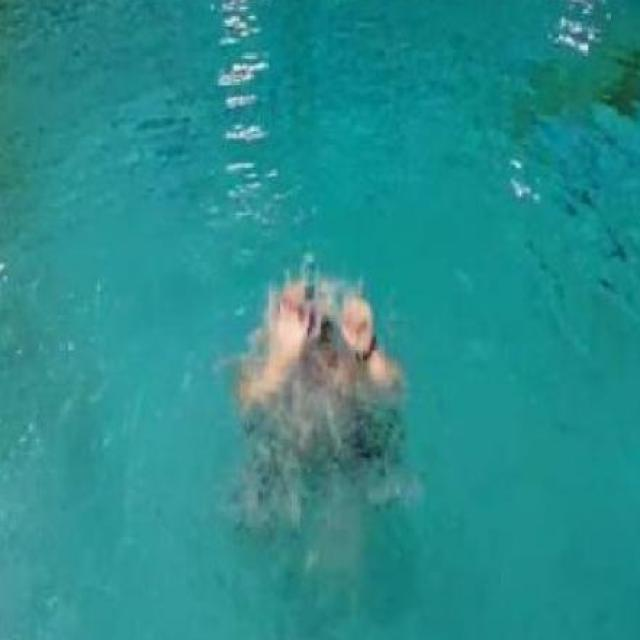Drowning: (232, 274, 413, 502)
